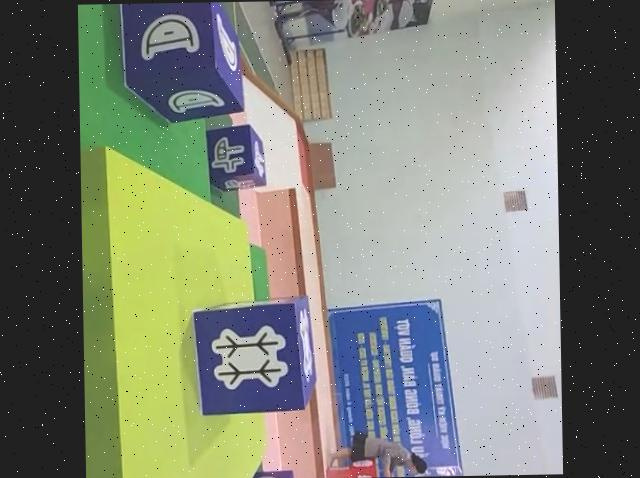R2 Real Blue: (191, 296, 316, 416), (118, 2, 242, 122), (204, 124, 265, 193)
